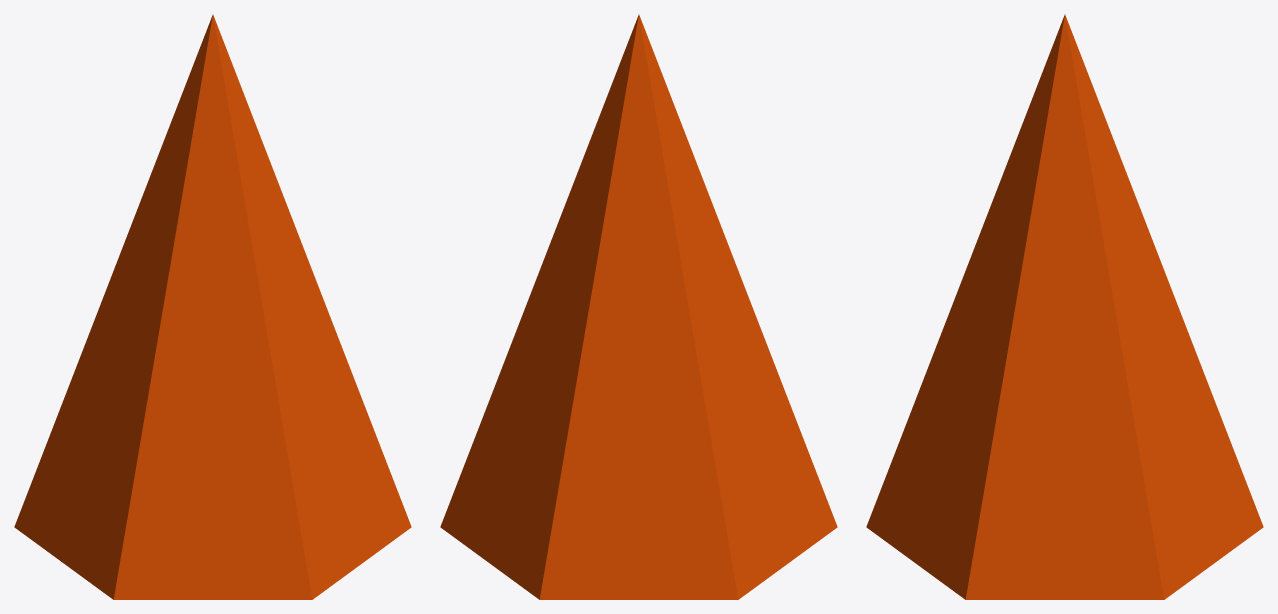
The model's file is tree-autumn-leaves-010.glb.
The picture shows the model from 3 angles, left to right: view 1: azimuth 30°, elevation 25°; view 2: azimuth 150°, elevation 25°; view 3: azimuth 270°, elevation 25°; orthographic projection.
Visible parts, largest first — view 1: Cube.044_336; view 2: Cube.044_336; view 3: Cube.044_336.
Boxes of the visible parts, x1,y1,x2,y2 form: Cube.044_336: (14, 14, 411, 599); Cube.044_336: (440, 14, 837, 599); Cube.044_336: (866, 14, 1263, 599).
Bounding box in the file's own units: 0.6985 × 1.15 × 0.8065.
